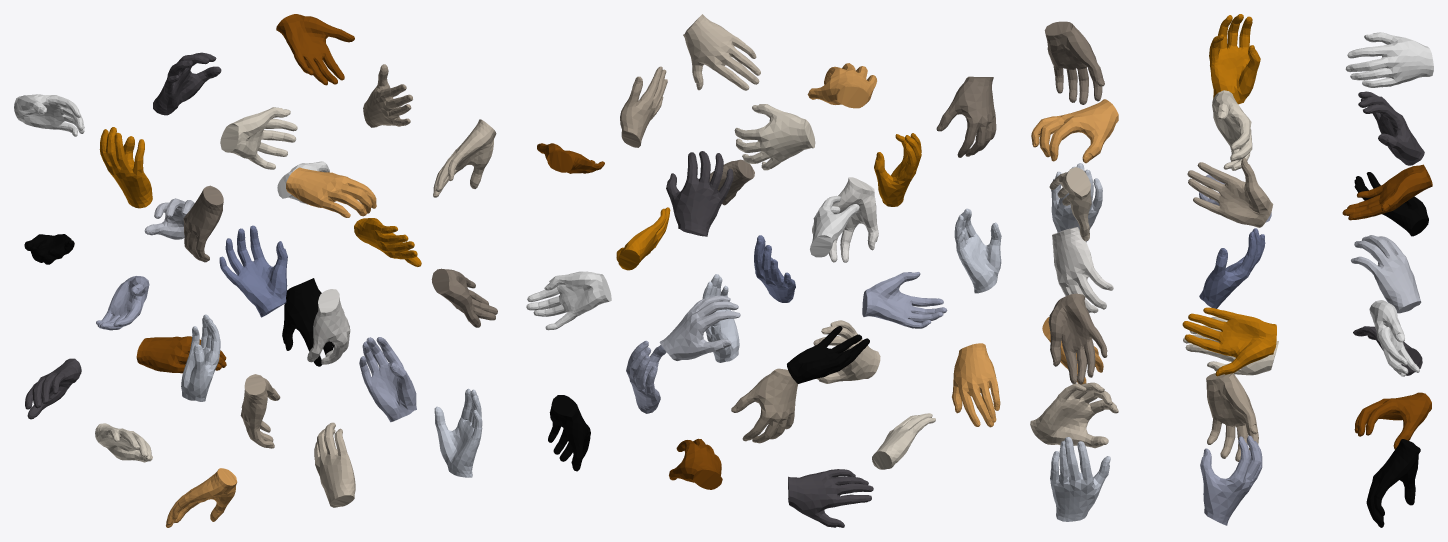
The picture shows the model from 3 angles, left to right: view 1: azimuth 30°, elevation 25°; view 2: azimuth 150°, elevation 25°; view 3: azimuth 270°, elevation 25°; orthographic projection. The views are drawn at different scales.
Parts seen in each view (by area): view 1: hand_13, hand_19, hand_24, hand_17, hand_16, hand_20, hand_7, hand_11, hand_5, hand_6, hand_14, hand_15 (+14 smaller); view 2: hand_15, hand_26, hand_16, hand_0, hand_21, hand_2, hand_10, hand_4, hand_12, hand_8, hand_5, hand_3 (+15 smaller); view 3: hand_22, hand_11, hand_25, hand_6, hand_23, hand_20, hand_7, hand_8, hand_19, hand_17, hand_10, hand_12 (+13 smaller).
Boxes of the visible parts, <box> form: hand_13: <box>219,225,287,317</box>; hand_19: <box>359,337,416,422</box>; hand_24: <box>276,14,354,85</box>; hand_17: <box>286,167,376,217</box>; hand_16: <box>220,107,297,169</box>; hand_20: <box>434,388,482,477</box>; hand_7: <box>99,127,152,208</box>; hand_11: <box>314,422,355,507</box>; hand_5: <box>181,314,220,401</box>; hand_6: <box>14,94,84,136</box>; hand_14: <box>307,289,350,364</box>; hand_15: <box>153,52,221,115</box>; hand_15: <box>666,151,733,236</box>; hand_26: <box>683,14,760,90</box>; hand_16: <box>734,104,815,170</box>; hand_0: <box>788,469,873,527</box>; hand_21: <box>526,271,611,330</box>; hand_2: <box>952,343,1000,427</box>; hand_10: <box>731,368,797,443</box>; hand_4: <box>862,272,947,328</box>; hand_12: <box>659,295,740,360</box>; hand_8: <box>936,76,996,157</box>; hand_5: <box>954,208,1001,293</box>; hand_3: <box>787,326,869,383</box>; hand_22: <box>1182,307,1276,376</box>; hand_11: <box>1030,382,1118,448</box>; hand_25: <box>1187,157,1273,227</box>; hand_6: <box>1345,32,1433,87</box>; hand_23: <box>1048,293,1107,384</box>; hand_20: <box>1050,437,1110,521</box>; hand_7: <box>1209,14,1260,104</box>; hand_8: <box>1044,21,1104,104</box>; hand_19: <box>1200,435,1262,525</box>; hand_17: <box>1031,99,1118,163</box>; hand_10: <box>1206,373,1258,461</box>; hand_12: <box>1351,235,1421,313</box>.
Bounding box in the file's own units: 89.78 × 90.74 × 89.42.
